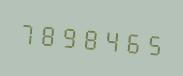eight: (38, 15, 58, 53), (80, 19, 100, 56)
five: (143, 24, 163, 62)
four: (101, 20, 121, 58)
nine: (59, 17, 79, 54)
seven: (17, 13, 37, 51)
six: (122, 22, 142, 60)
